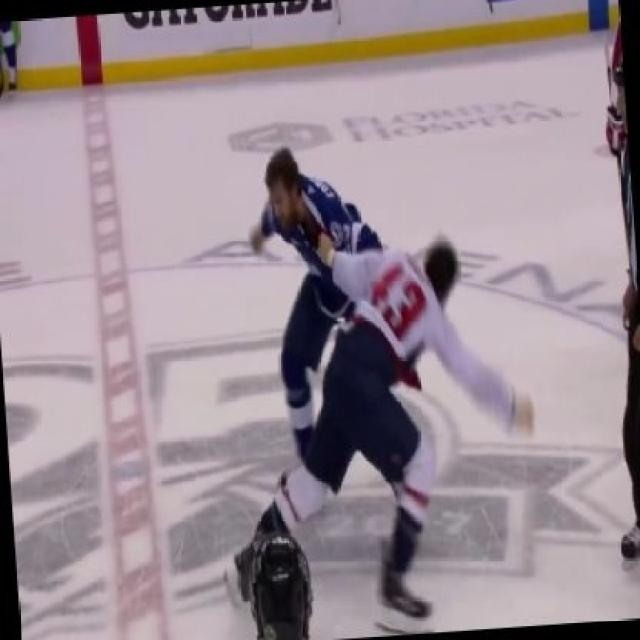fight: (195, 119, 556, 638)
non-fight: (557, 0, 638, 583)
